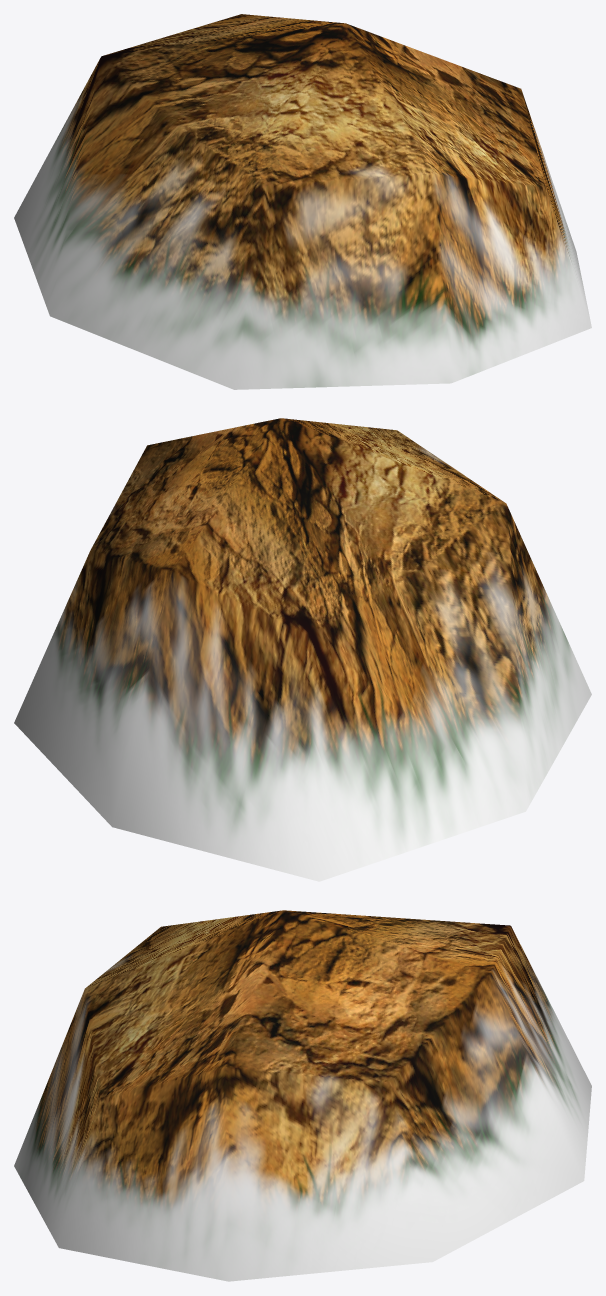
Rendered from Rock05.FBX.
The picture shows the model from 3 angles, top to bottom: view 1: azimuth 30°, elevation 25°; view 2: azimuth 150°, elevation 25°; view 3: azimuth 270°, elevation 25°; orthographic projection. The views are drawn at different scales.
Parts seen in each view (by area): view 1: Box01; view 2: Box01; view 3: Box01.
Part boxes in pixels (x1=…): Box01: x1=14, y1=14, x2=591, y2=389; Box01: x1=14, y1=418, x2=591, y2=881; Box01: x1=14, y1=910, x2=591, y2=1281.
Size of the model in its own units: 58.41 by 31.34 by 61.22.
1 material, 1 textured.
